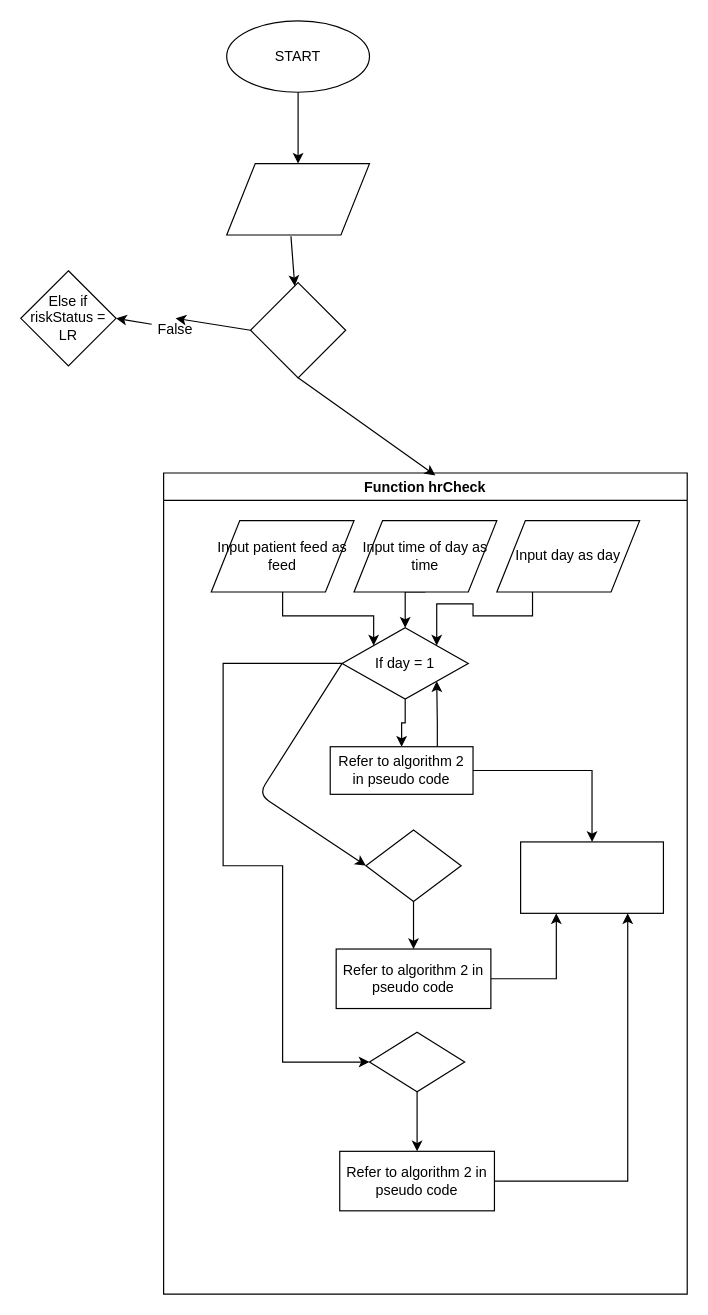
The diagram is 708 pixels wide and 1315 high, and some of its shapes have lost their labels. The shapes that lost their labels are listed below. From the top down, each one's centre as x and y in pixels, then its label:
pixel 297 198: Get patient's risk status as riskStatus
pixel 297 329: If riskStatus = HR
pixel 413 865: Else if day = 2
pixel 591 877: Produce report for patient.
pixel 416 1061: Else if day = 3
